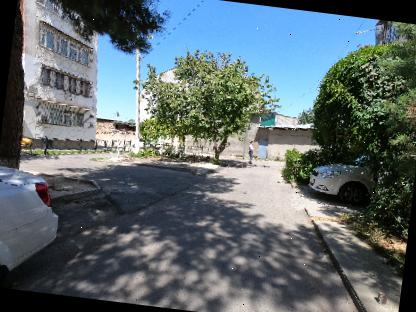tree: (126, 38, 292, 171)
